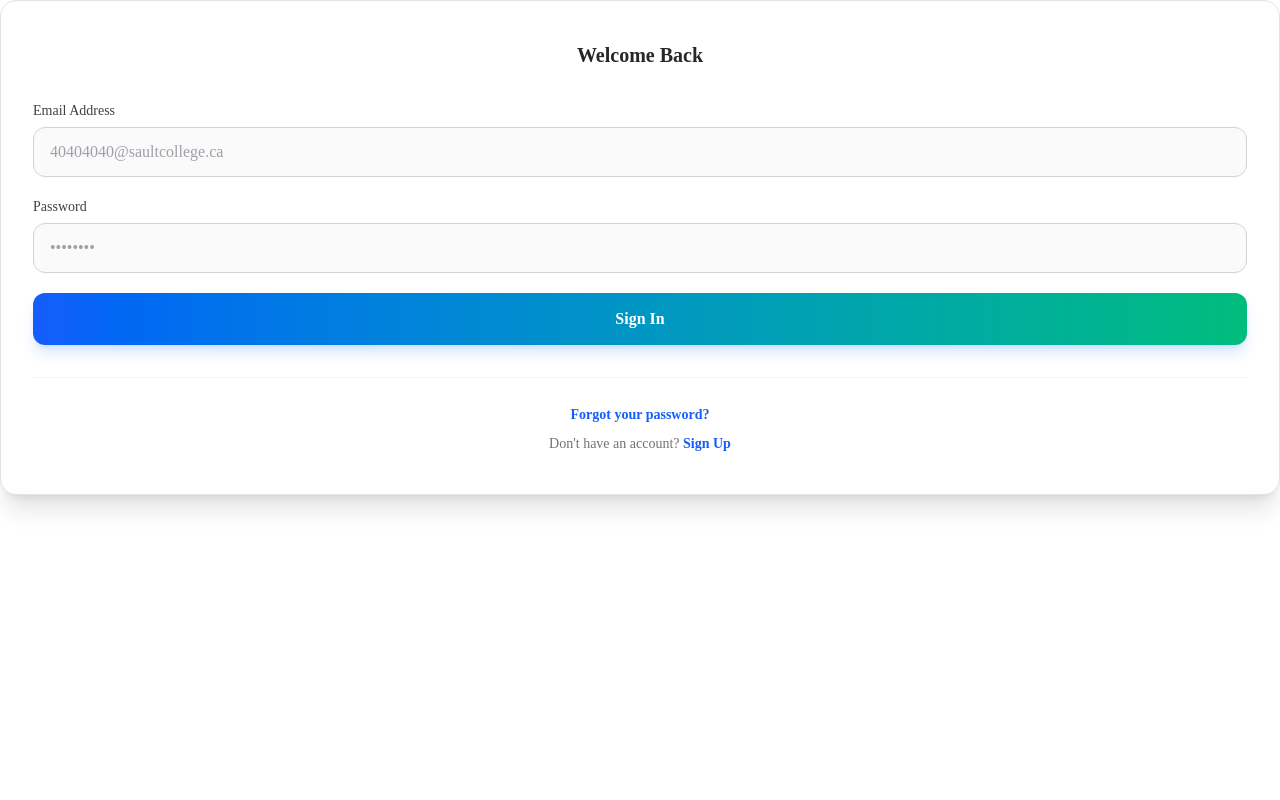
Test: SignIn Component › Form Validation › shows errors for both empty fields
Click the button "Sign In" at x=640, y=319, box [33,293,1247,345]
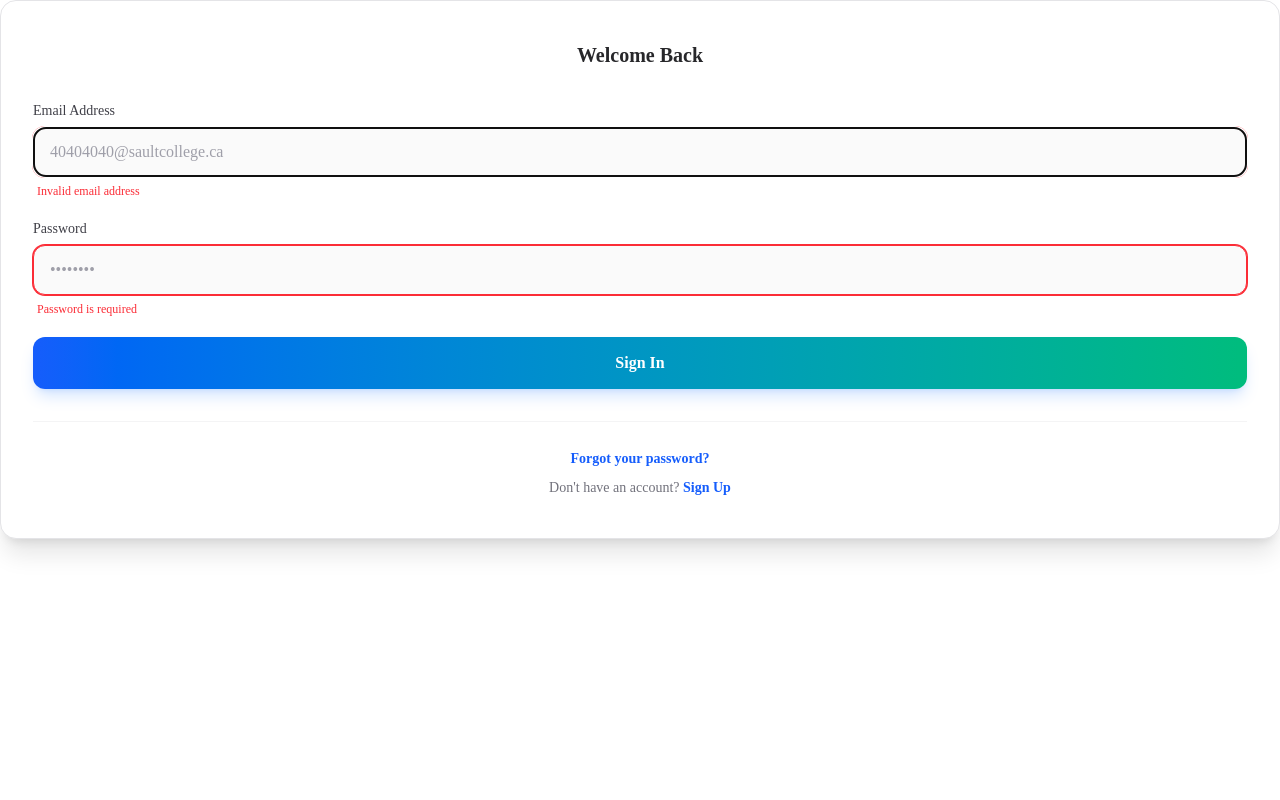
Expected: the text "Invalid email address" is shown, [37,184,140,198]
Expected: the text "Password is required" is shown, [37,302,137,316]
